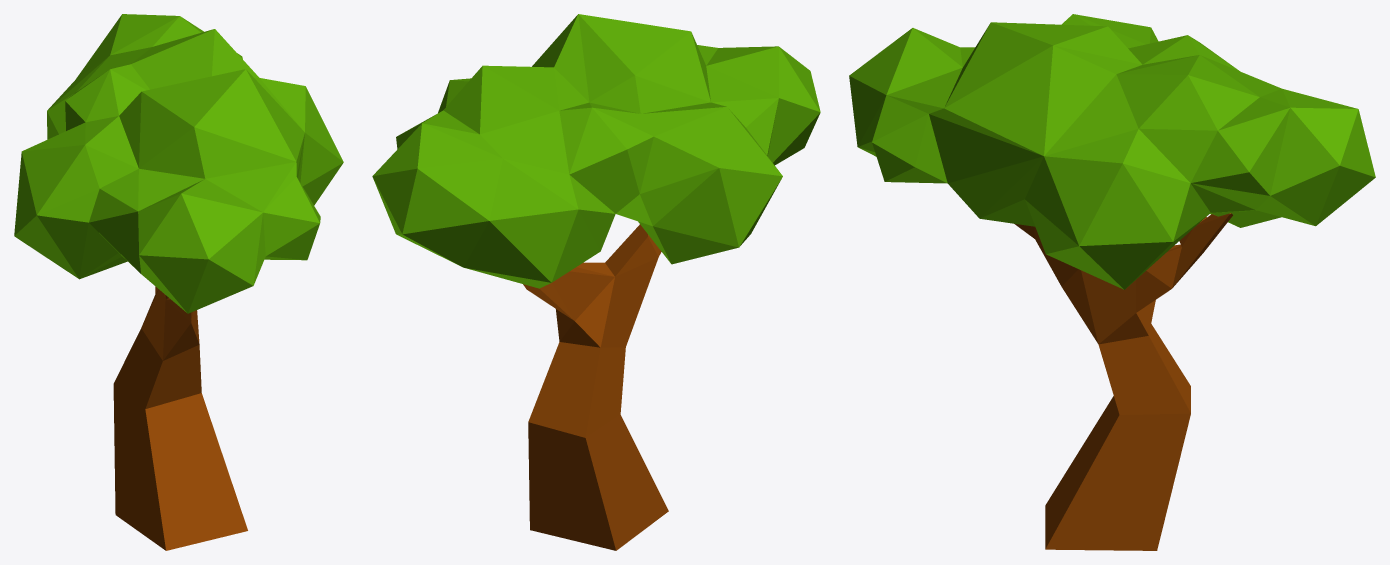
Rendered from LowerPolyTree2.fbx.
3 views of the same model, side by side, from view 1: azimuth 30°, elevation 25°; view 2: azimuth 150°, elevation 25°; view 3: azimuth 270°, elevation 25° (orthographic). The views are drawn at different scales.
Parts seen in each view (by area): view 1: Icosphere.005, Cube; view 2: Icosphere.005, Cube; view 3: Icosphere.005, Cube.
Part boxes in pixels (x1,y1,x2,y2): Icosphere.005: (14, 14, 343, 313); Cube: (113, 286, 247, 550); Icosphere.005: (372, 14, 820, 288); Cube: (523, 224, 668, 550); Icosphere.005: (849, 14, 1375, 289); Cube: (1014, 213, 1232, 550).
Bounding box in the file's own units: 205 × 289 × 272.
